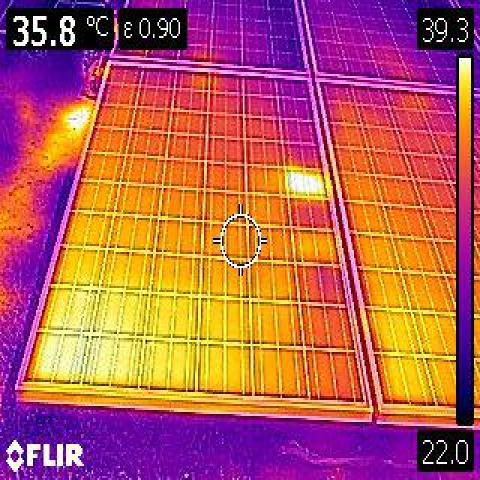fault: (290, 169, 326, 195)
